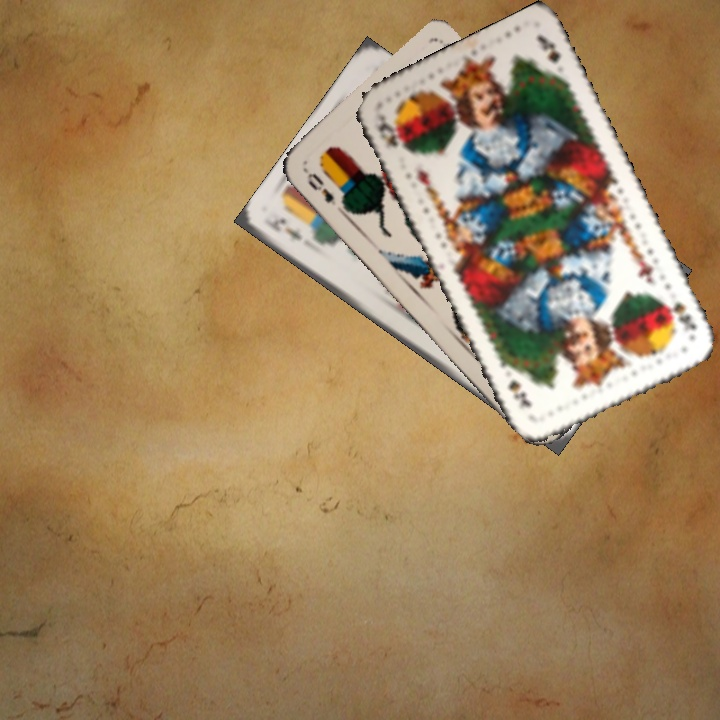EK: (265, 214, 305, 243)
EO: (302, 168, 339, 209)
SK: (658, 291, 699, 333), (374, 109, 407, 154)
